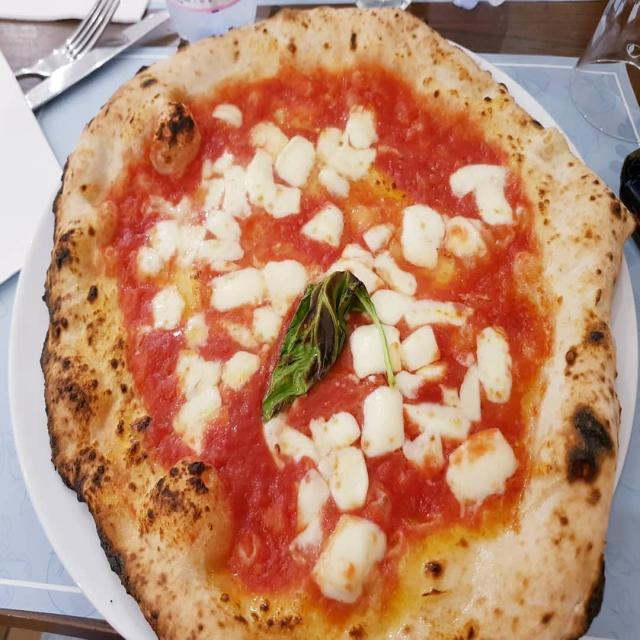basil: (261, 268, 397, 426)
pizza: (38, 0, 640, 640)
